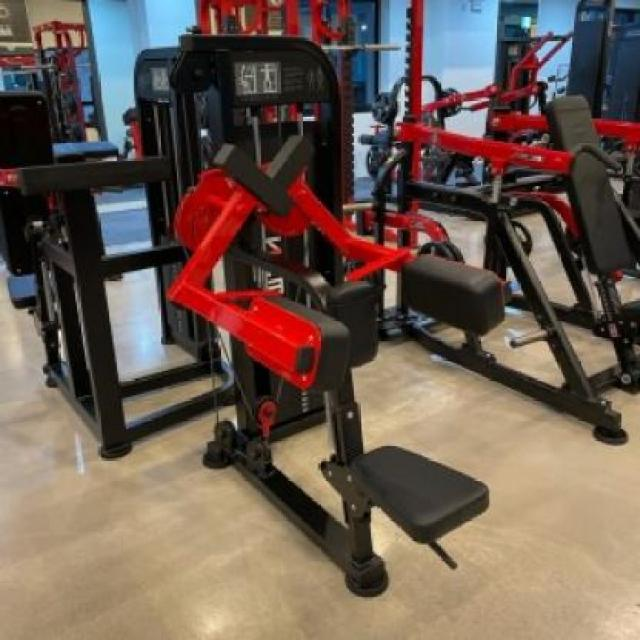lateral raises machine: (171, 131, 506, 598)
